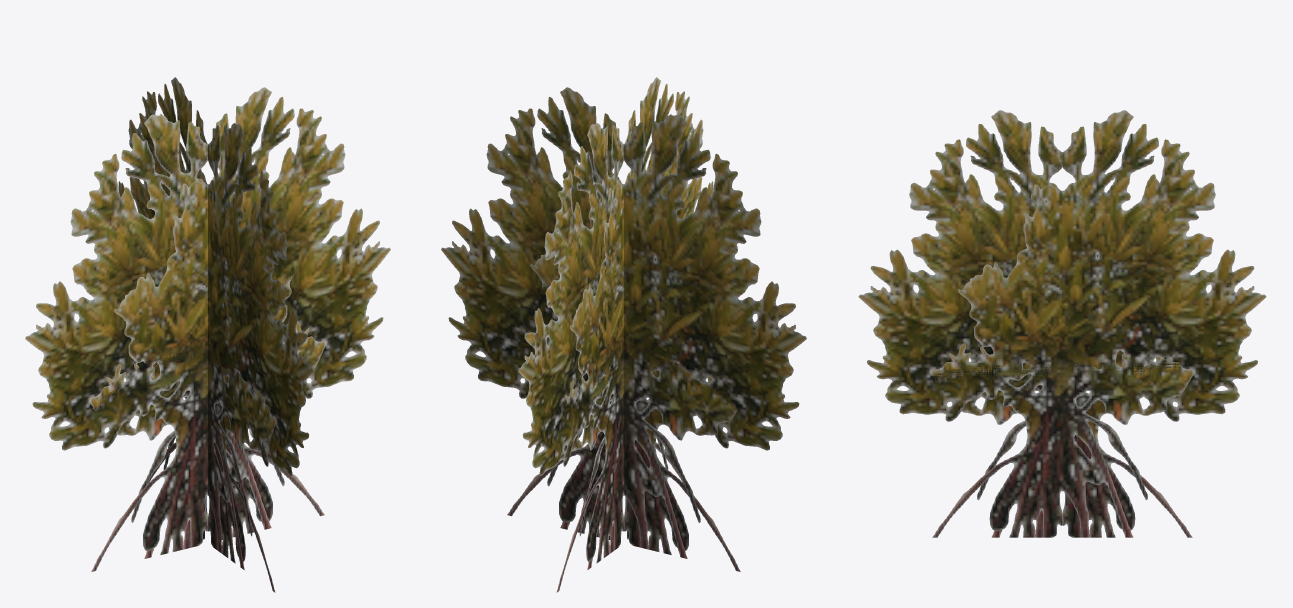
The model's file is mangrove_2.FBX.
3 views of the same model, side by side, from view 1: azimuth 30°, elevation 25°; view 2: azimuth 150°, elevation 25°; view 3: azimuth 270°, elevation 25° (orthographic). The views are drawn at different scales.
Parts seen in each view (by area): view 1: mangrove_2; view 2: mangrove_2; view 3: mangrove_2.
Part boxes in pixels (bbox=[...]): mangrove_2: bbox=[25, 77, 390, 592]; mangrove_2: bbox=[441, 77, 806, 592]; mangrove_2: bbox=[858, 110, 1266, 537].
Size of the model in its own units: 141 by 155 by 141.
